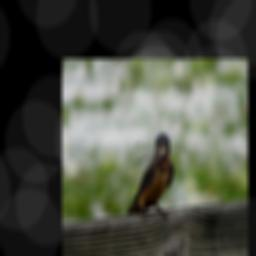Swallow: (126, 133, 174, 227)
